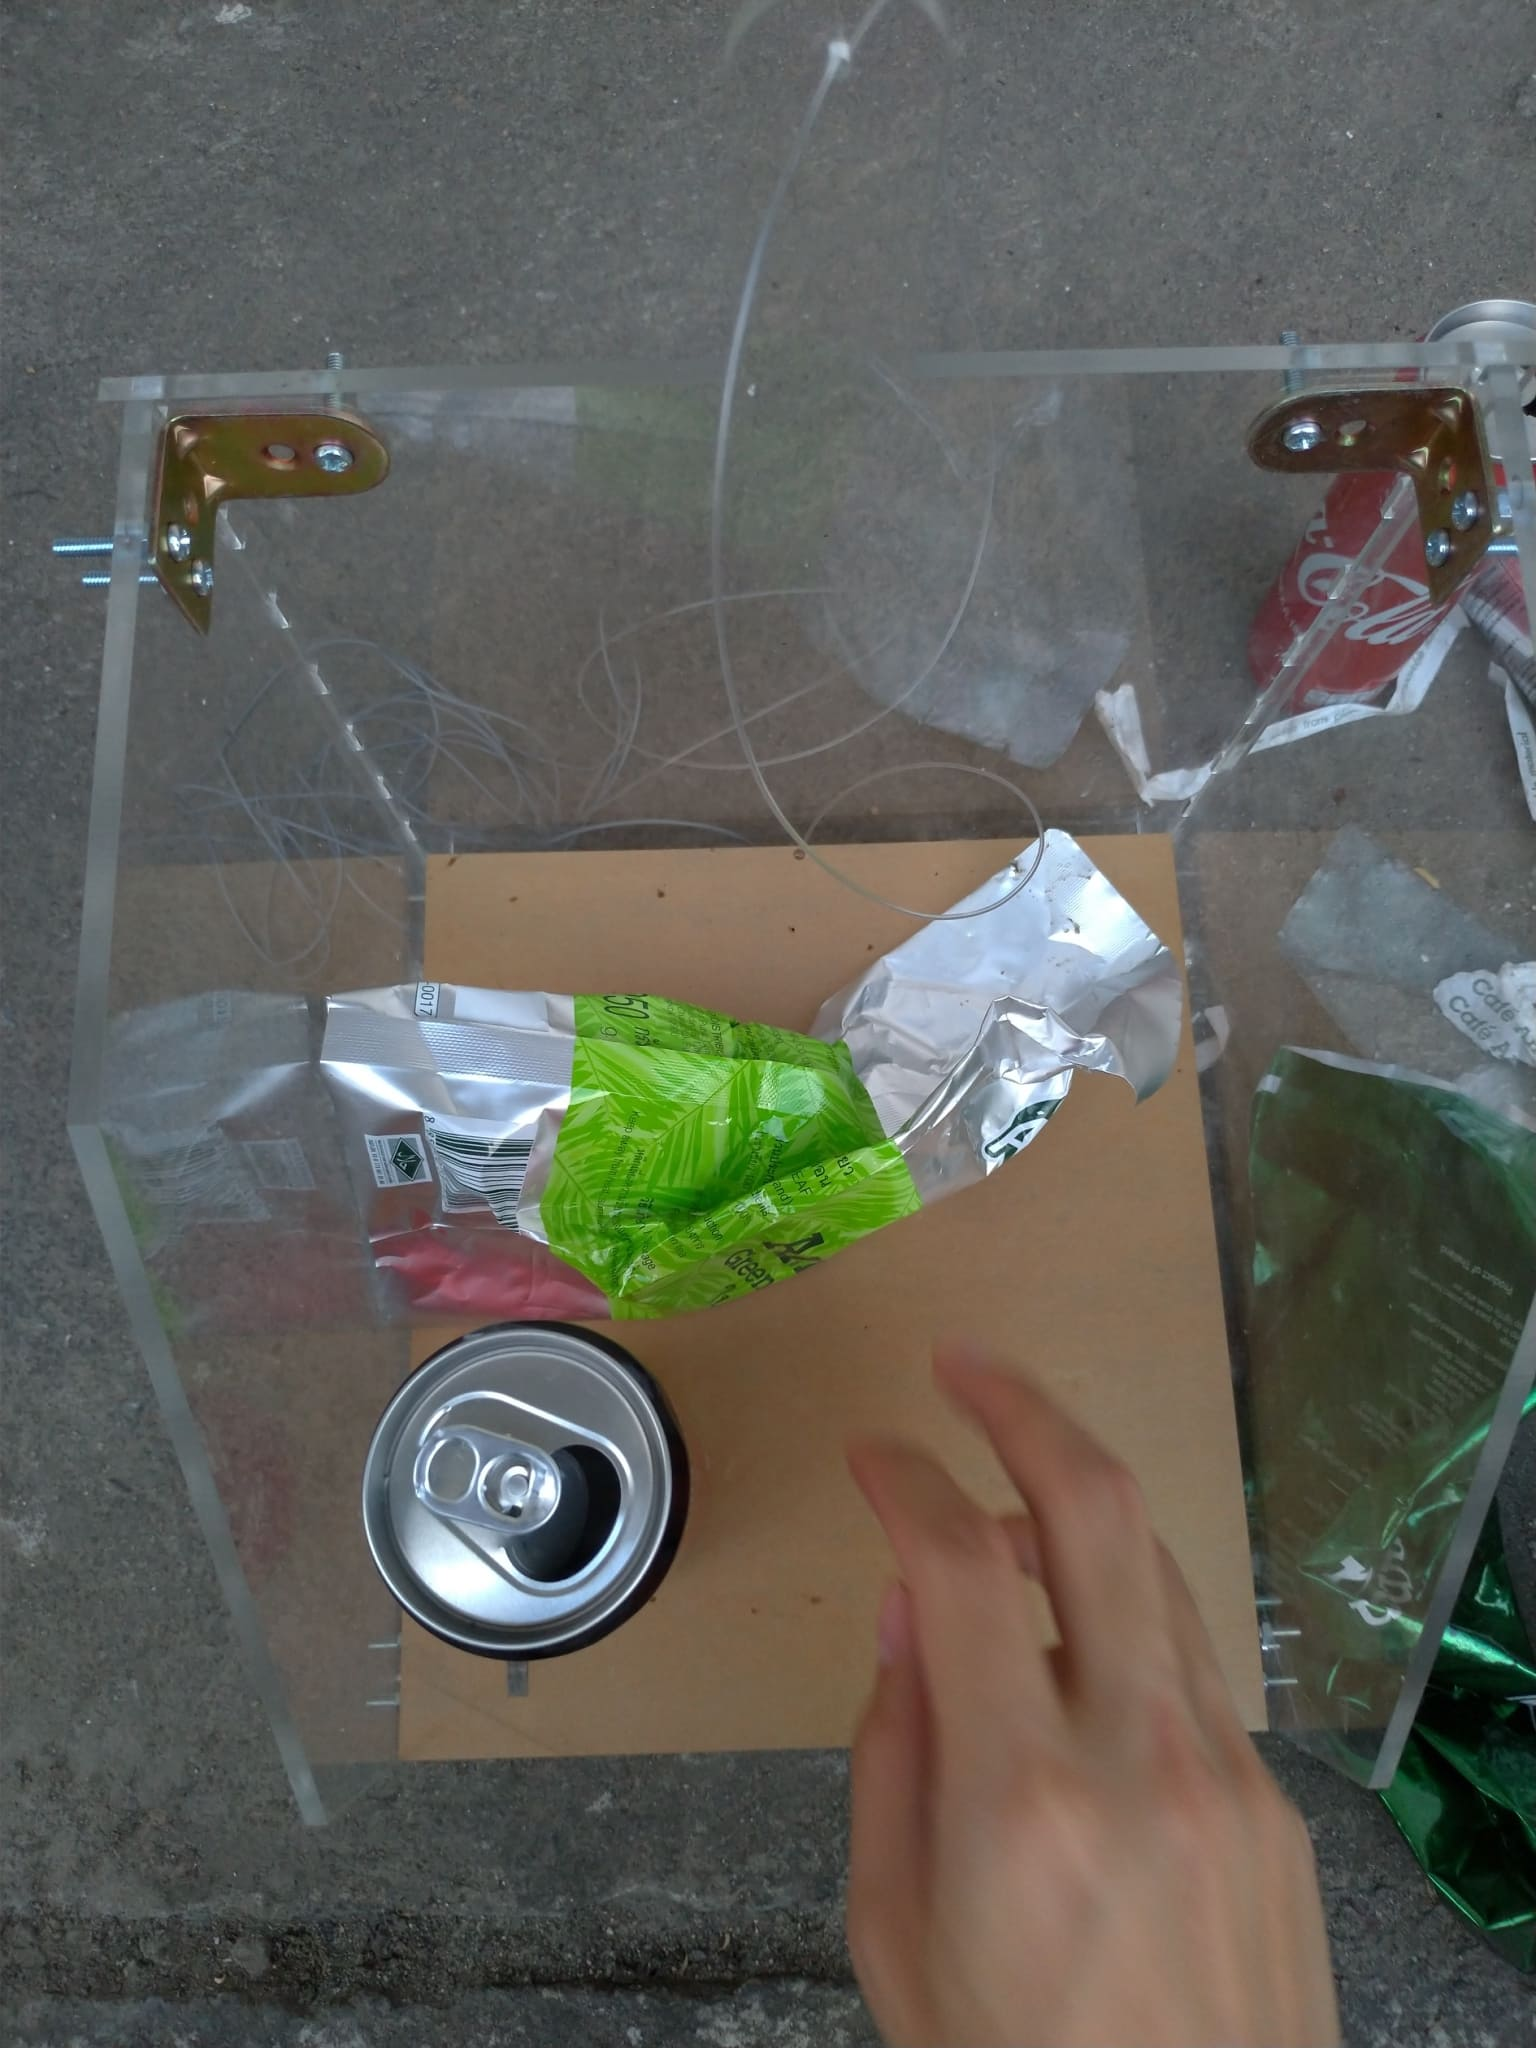AlCan: (360, 1314, 691, 1651), (1254, 302, 1534, 698)
Others: (316, 835, 1191, 1311), (1233, 1042, 1536, 1972), (1100, 631, 1475, 808), (1433, 945, 1536, 1043)
